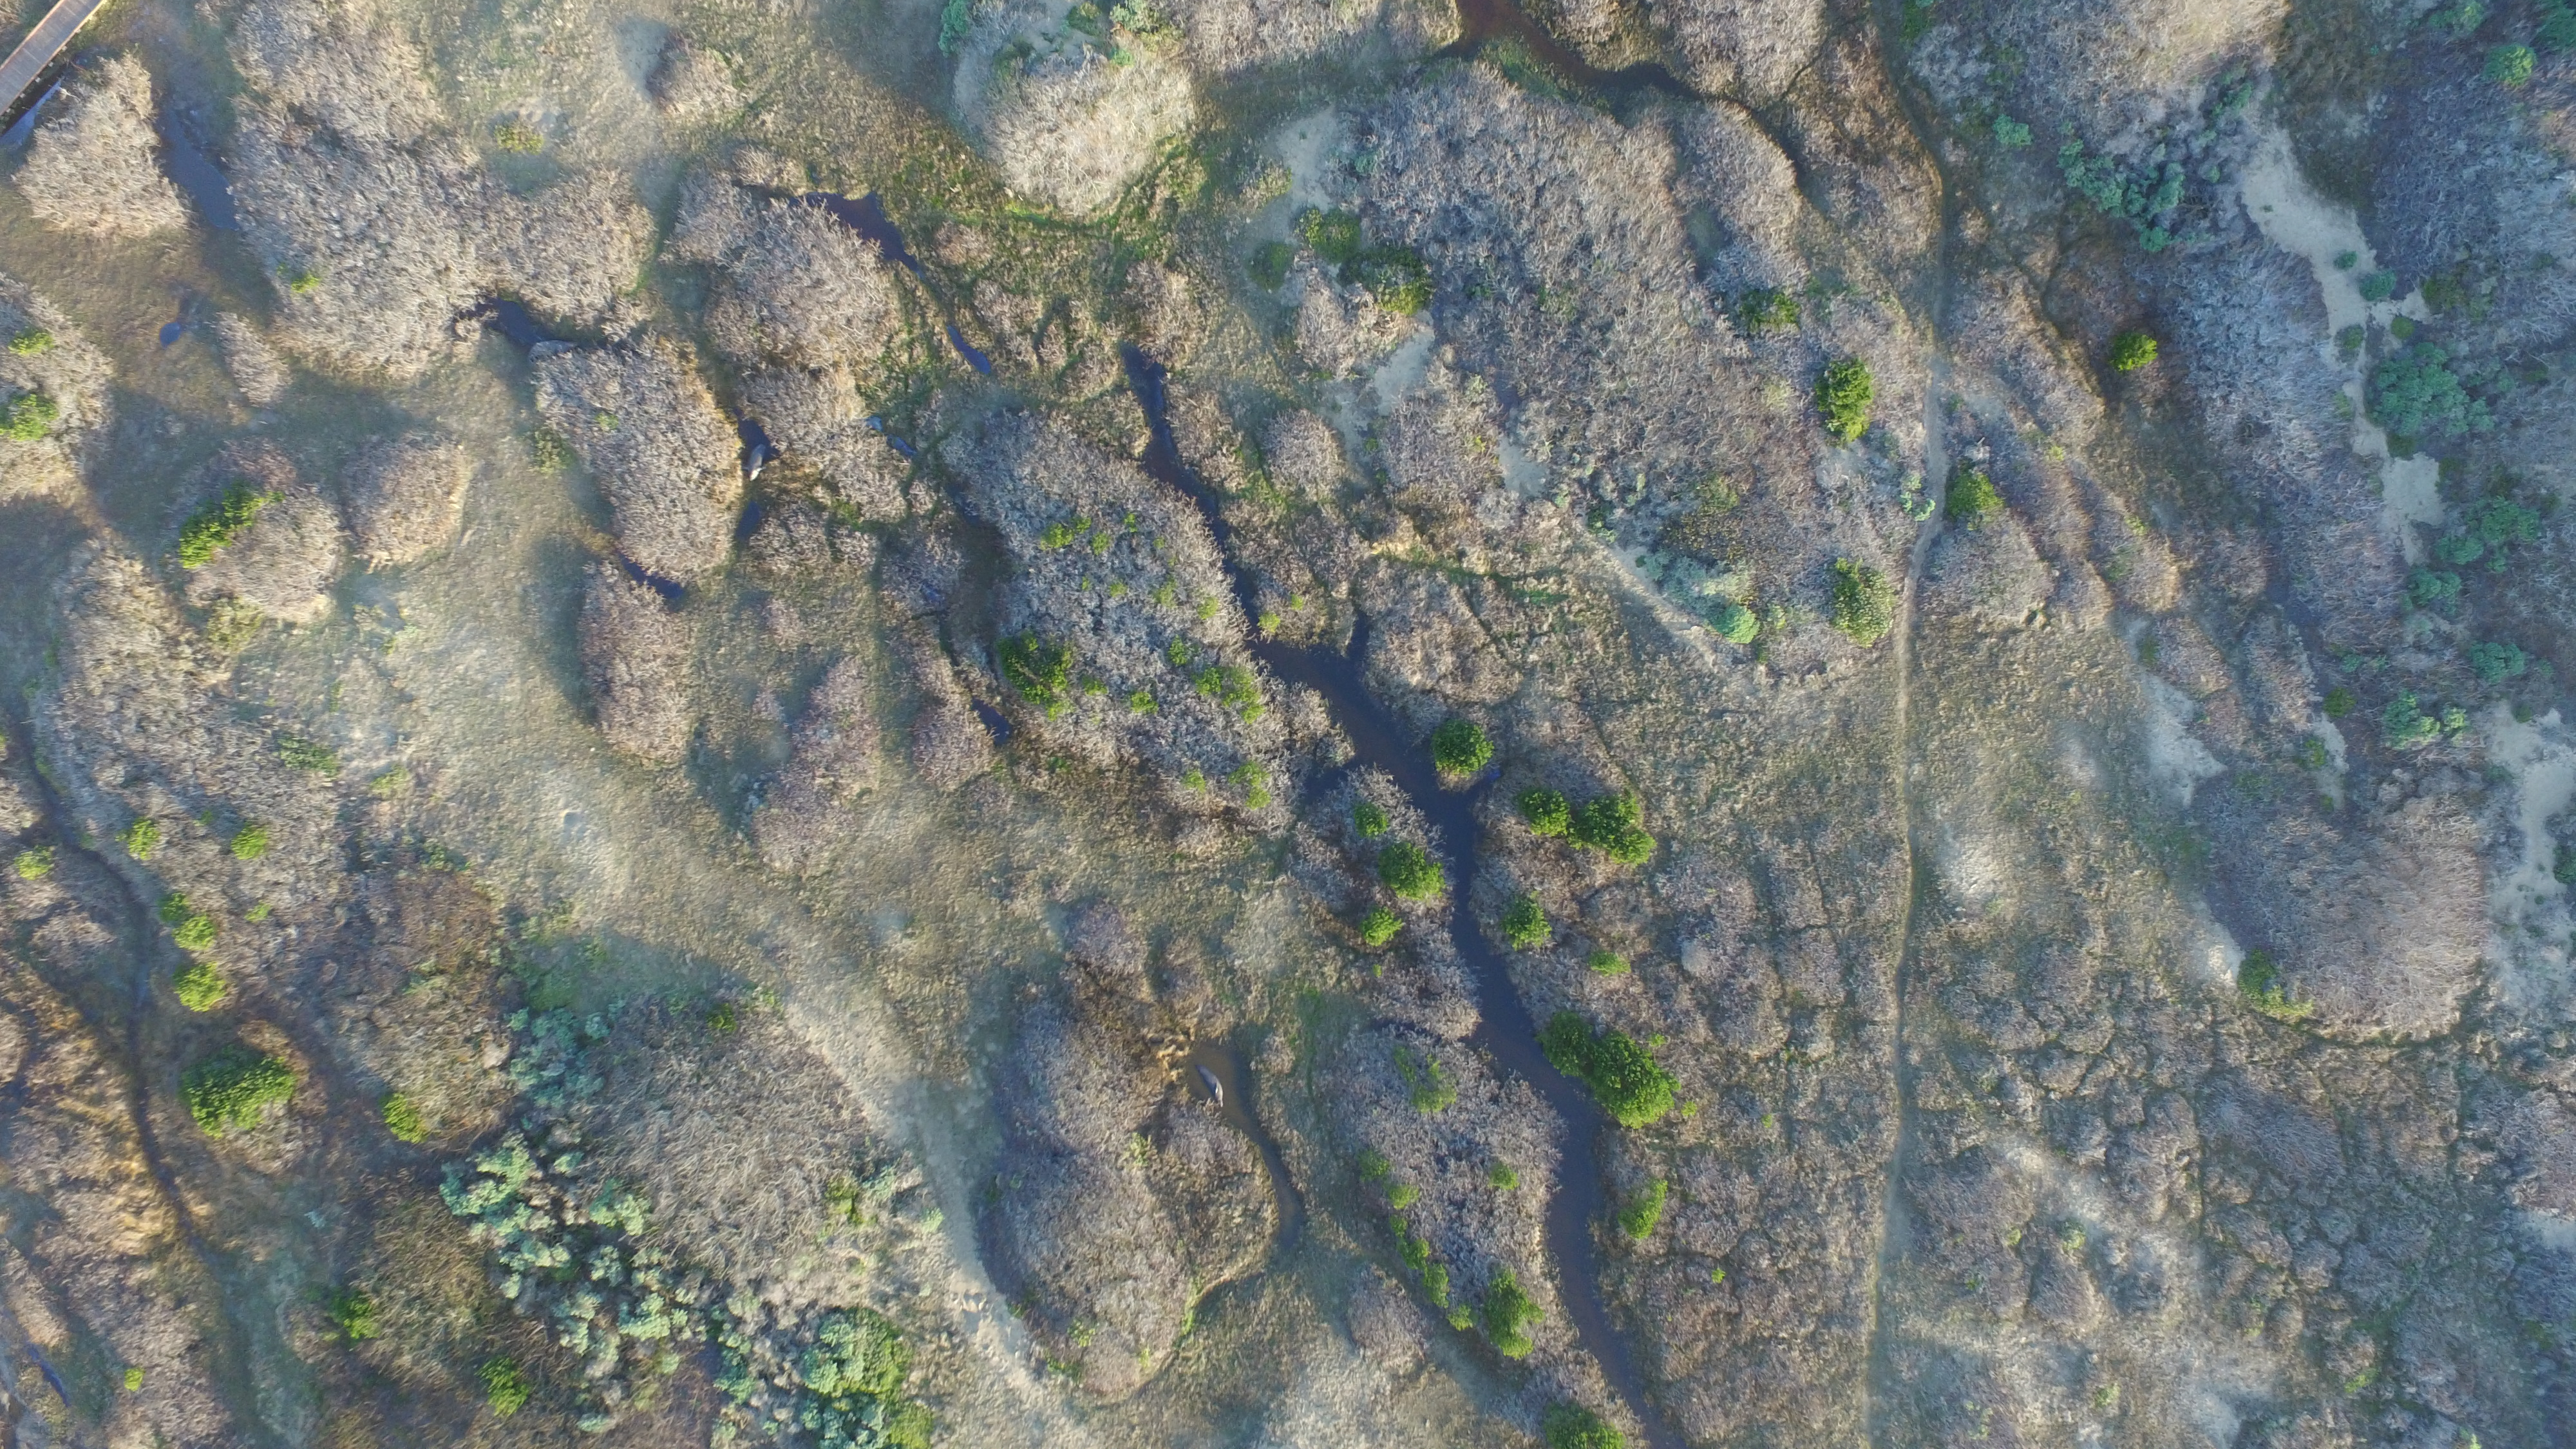adult male: (1196, 1060, 1226, 1108)
male juvenile / female juvenile / adulf female: (527, 338, 580, 364), (741, 442, 770, 481), (1532, 637, 1548, 648)
